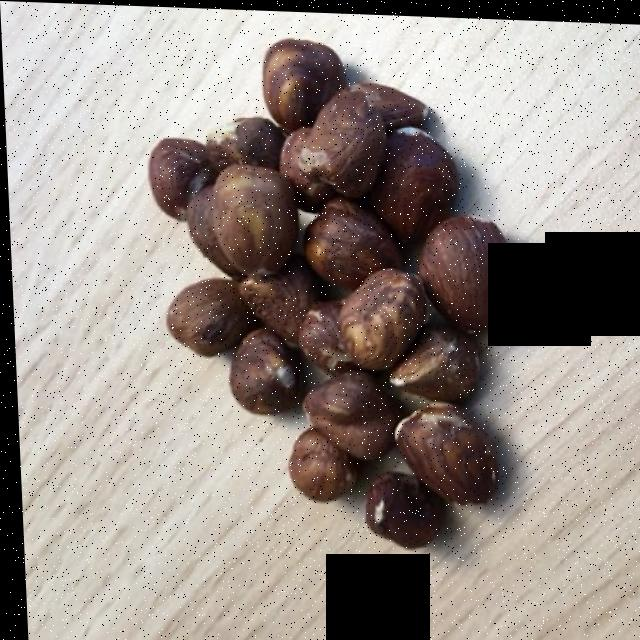hazelnut: (149, 46, 502, 540)
